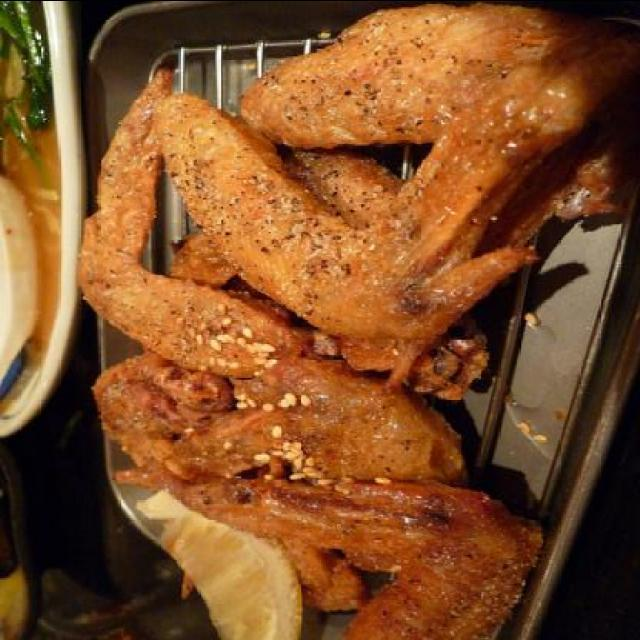Deep fried chicken wing: (86, 23, 604, 603)
Lemon: (109, 506, 309, 632)
